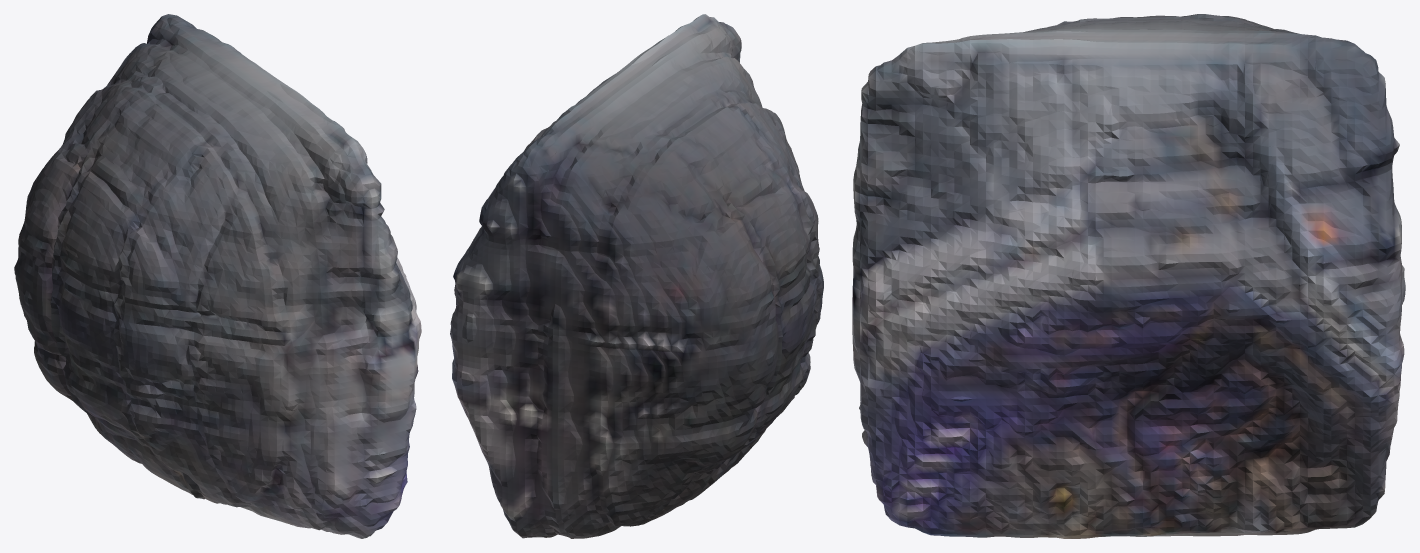
Rendered from leader-owl-historian.glb.
3 renders of one model, left to right at view 1: azimuth 30°, elevation 25°; view 2: azimuth 150°, elevation 25°; view 3: azimuth 270°, elevation 25°, orthographic. The views are drawn at different scales.
Parts seen in each view (by area): view 1: world; view 2: world; view 3: world.
Part boxes in pixels (<box>): world: <box>14,14,421,538</box>; world: <box>450,14,823,538</box>; world: <box>852,14,1405,538</box>.
Size of the model in its own units: 0.7043 by 0.9543 by 0.9652.
